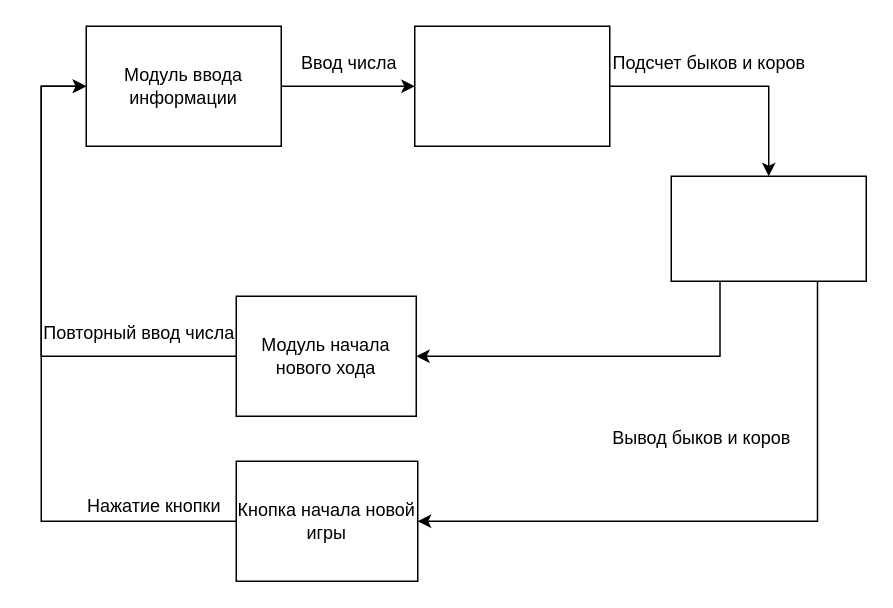
Image size: 893x608. Some labels were removed from this diagram. The shapes that lost their labels are listed below. From the top down, each one's box as (x1, y1, x2, y2) in pixels, then its label:
(413, 25, 610, 146): Модуль обработки хода
(670, 175, 866, 281): Модуль вывода результата раунда
